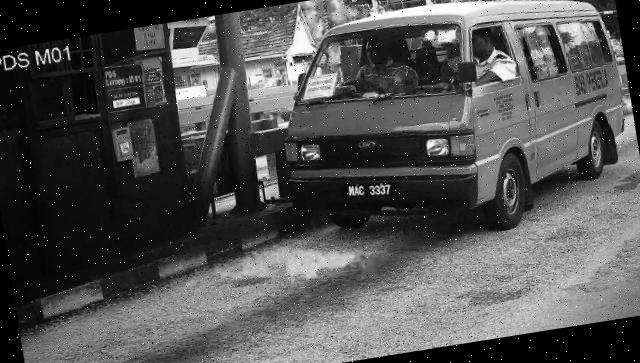License_Plate: (340, 175, 402, 209)
van: (265, 1, 640, 263)
